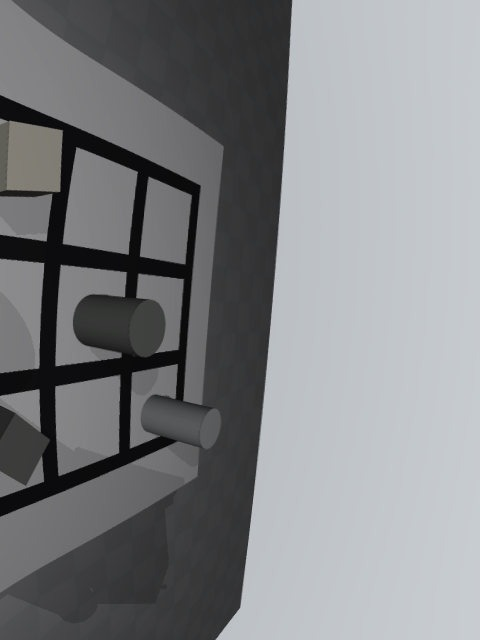can: (141, 395, 221, 449)
cube: (0, 406, 50, 486)
cylinder: (73, 295, 166, 358)
foam: (0, 120, 63, 197)
